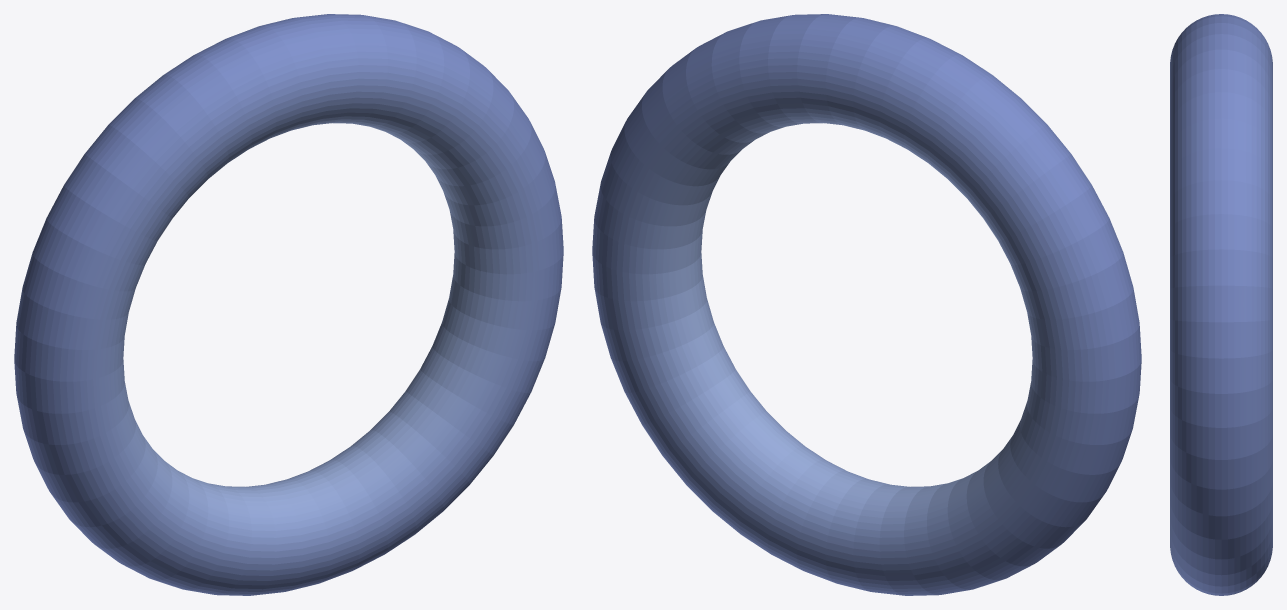
The picture shows the model from 3 angles, left to right: view 1: azimuth 30°, elevation 25°; view 2: azimuth 150°, elevation 25°; view 3: azimuth 270°, elevation 25°; orthographic projection. The views are drawn at different scales.
Parts seen in each view (by area): view 1: world; view 2: world; view 3: world.
Part boxes in pixels (box(x1,y1,x2,y2)): world: box(14, 14, 563, 595); world: box(592, 14, 1141, 595); world: box(1170, 14, 1272, 595).
Size of the model in its own units: 21.87 by 21.82 by 3.86.
